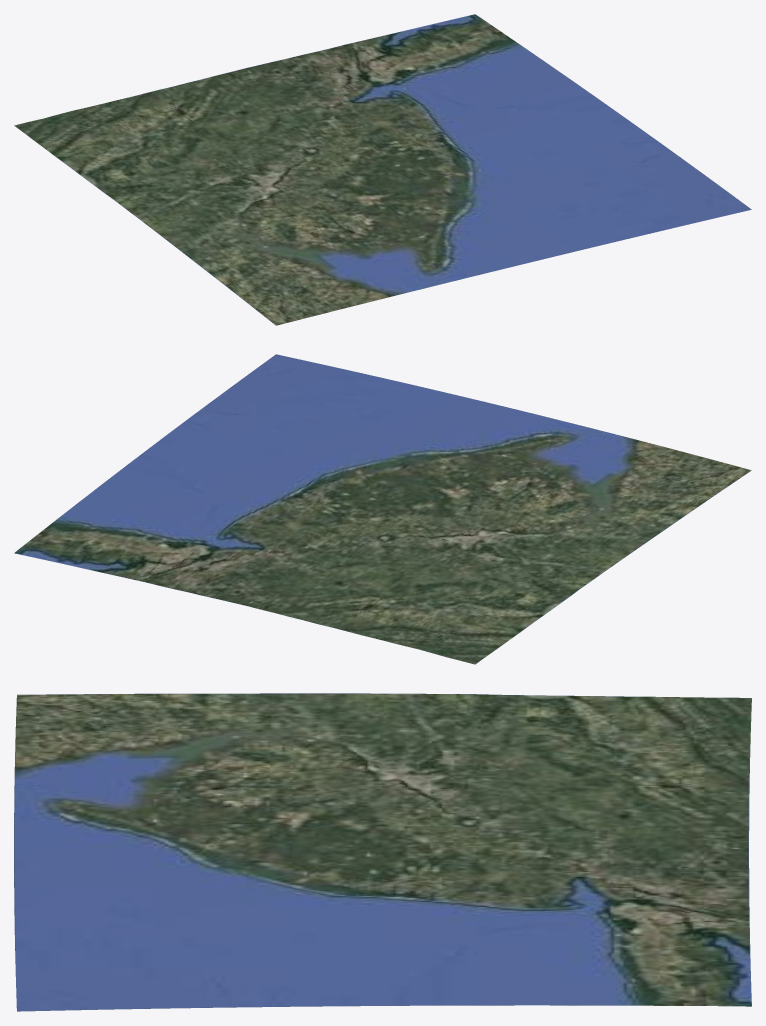
The picture shows the model from 3 angles, top to bottom: view 1: azimuth 30°, elevation 25°; view 2: azimuth 150°, elevation 25°; view 3: azimuth 270°, elevation 25°; orthographic projection. The views are drawn at different scales.
Size of the model in its own units: 244218 by 2322 by 240458.
Materials: 1 (1 with a texture image).
